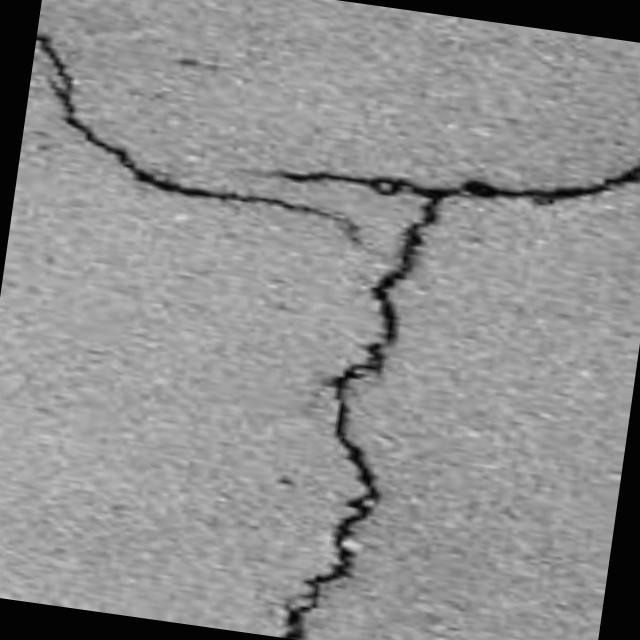crack: (16, 30, 386, 244), (281, 243, 423, 640), (365, 116, 640, 285)
